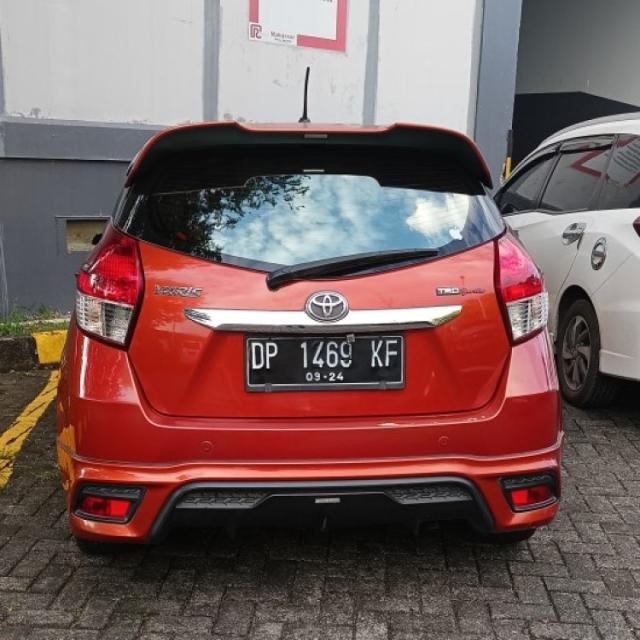plates: (246, 336, 405, 396)
